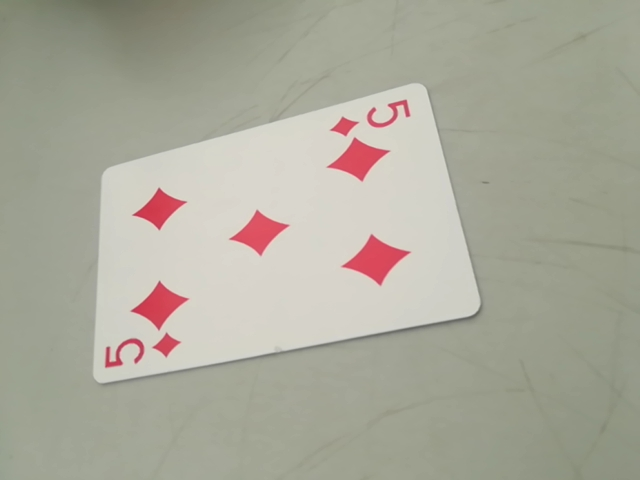fk 5: (100, 328, 187, 378), (325, 96, 416, 137)
